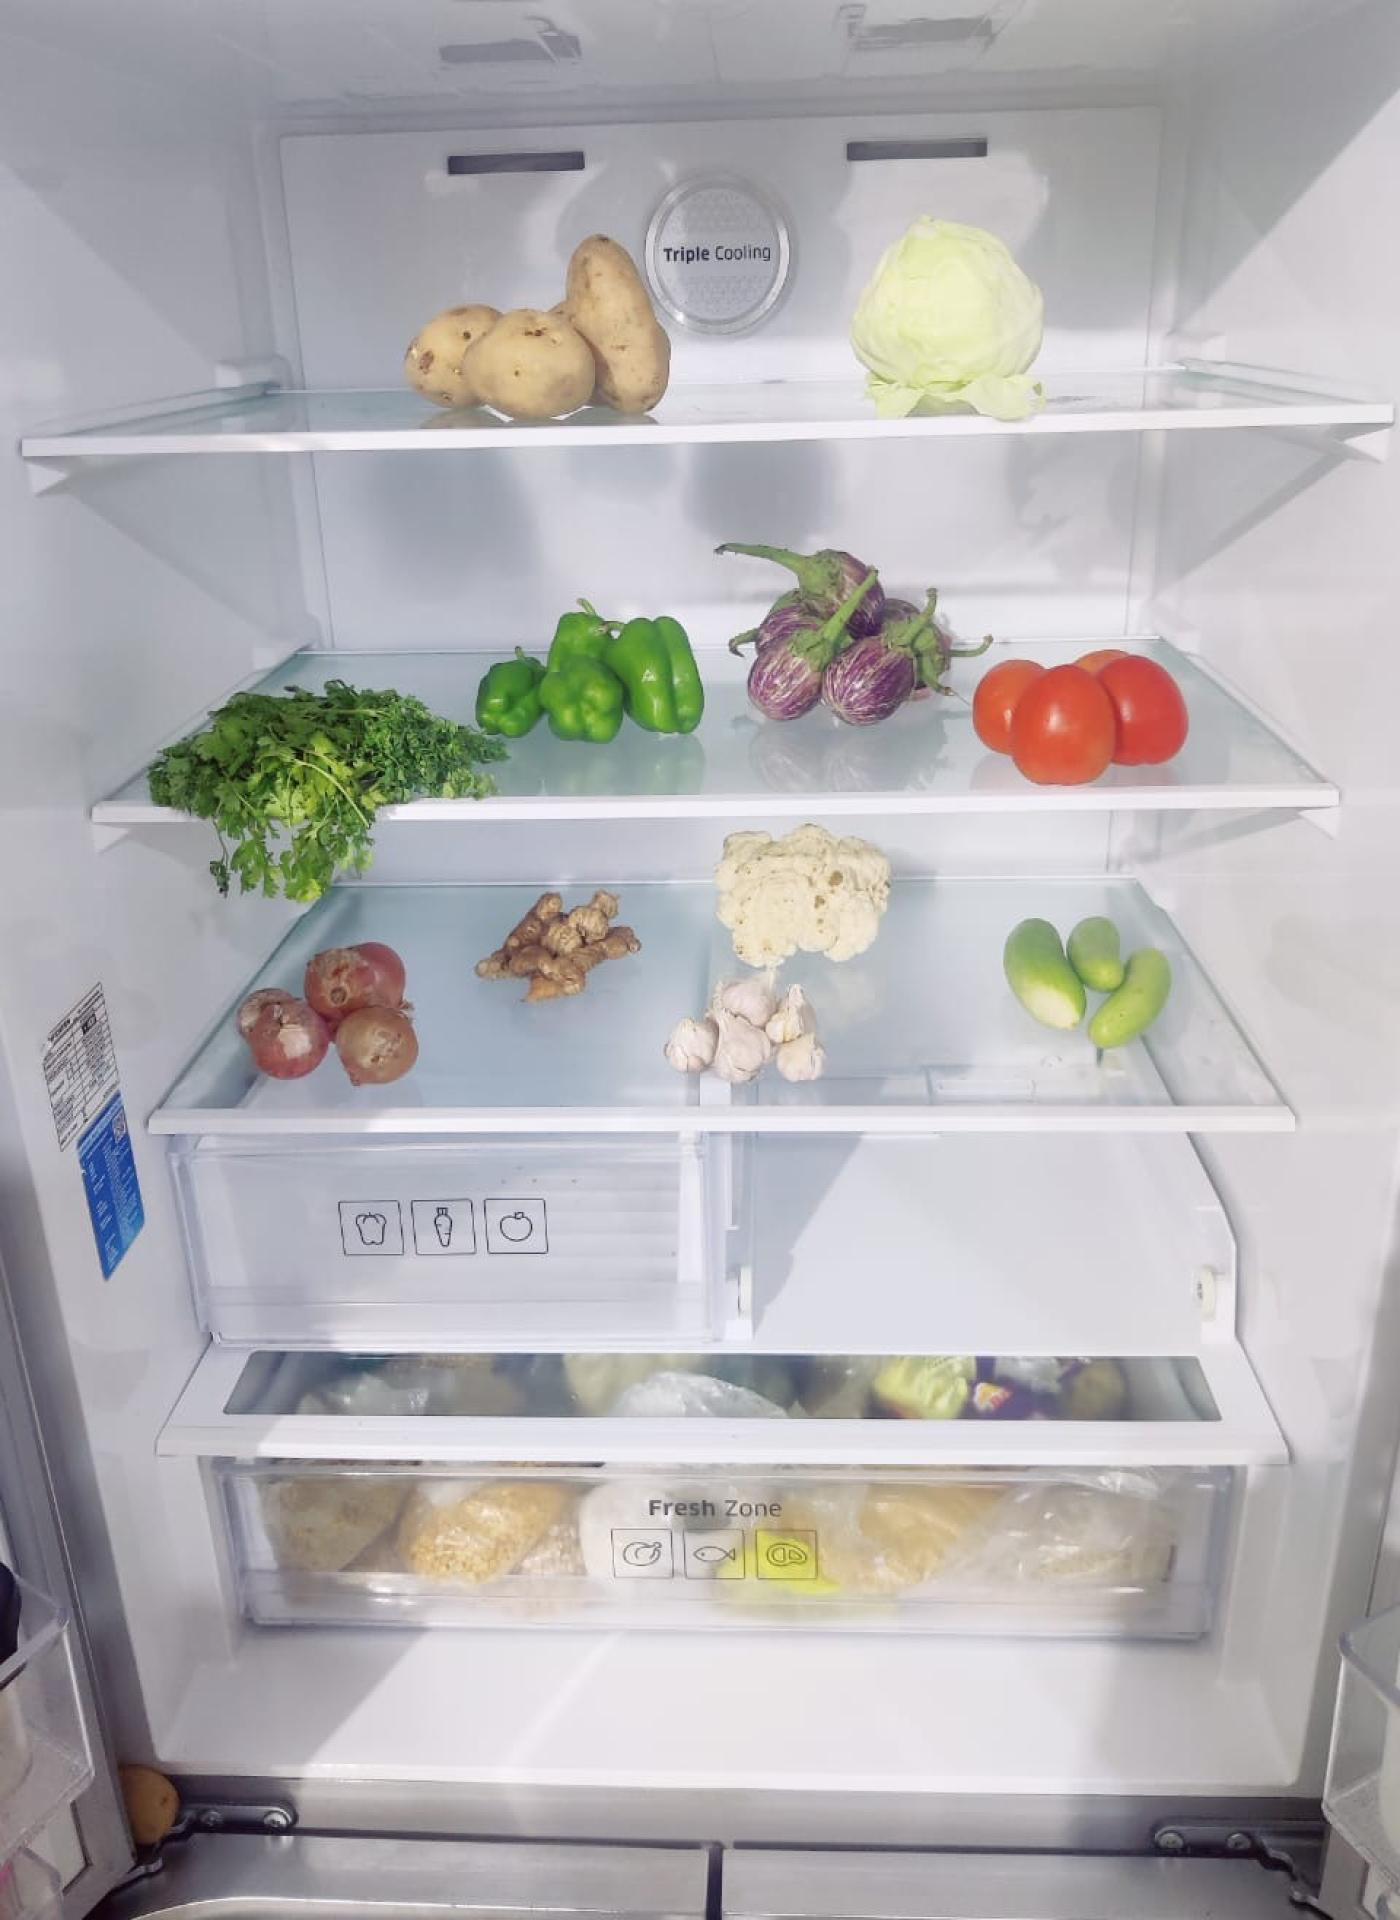brinjal: (740, 532, 978, 719)
cabbage: (847, 215, 1044, 417)
capsicum: (476, 611, 701, 744)
cauliflower: (713, 817, 893, 960)
coriander: (148, 689, 492, 881)
cucumber: (1003, 908, 1173, 1045)
garlic: (671, 975, 833, 1088)
ginger: (477, 888, 640, 1000)
onion: (242, 941, 423, 1087)
potato: (409, 243, 675, 425)
tomato: (978, 644, 1196, 780)
